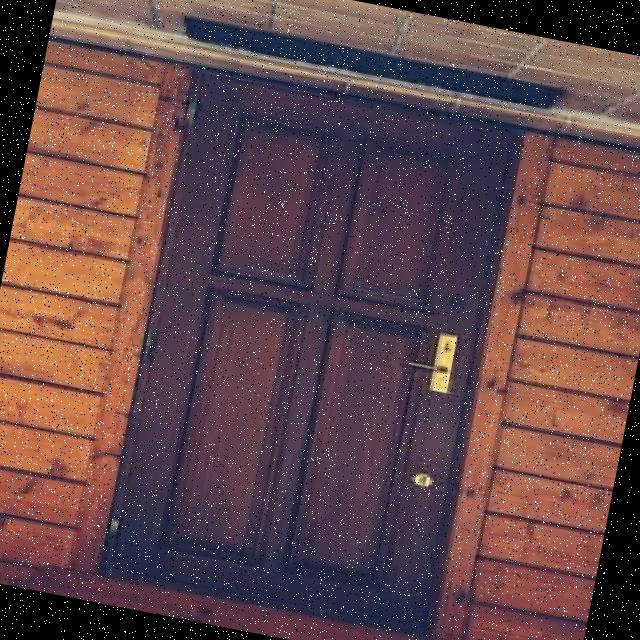Door: (86, 58, 532, 640)
